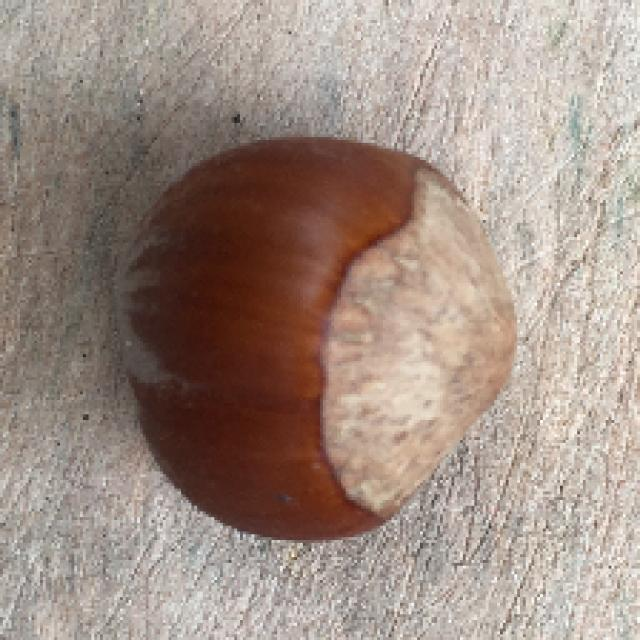qualityHazelnut: (113, 132, 521, 547)
